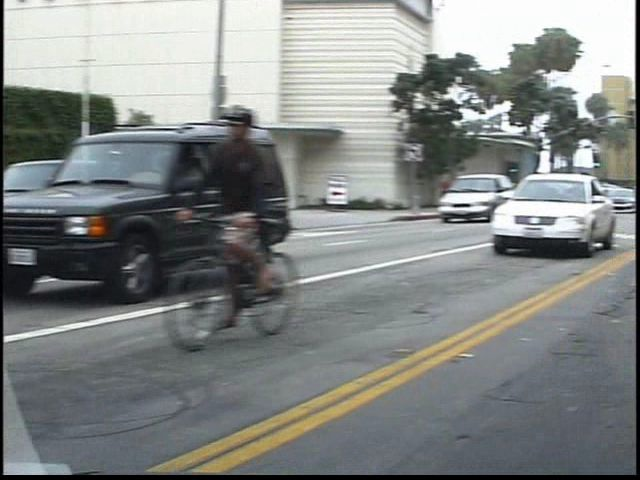person: (213, 100, 317, 332), (455, 171, 475, 212)
